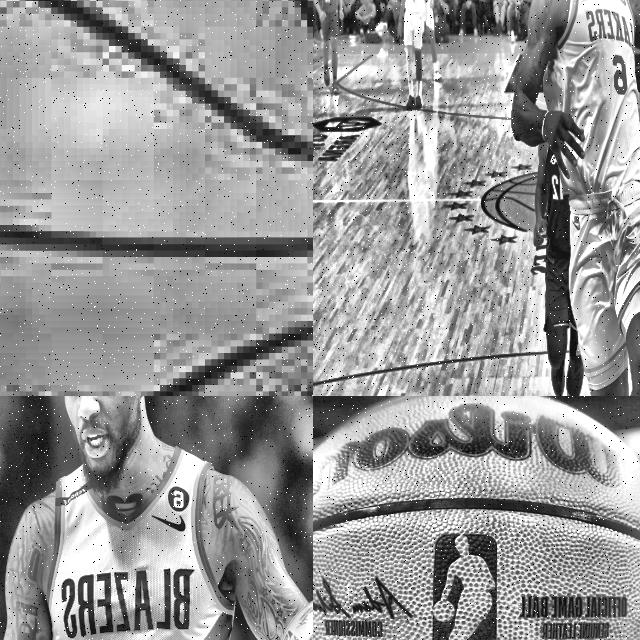Basketball: (0, 0, 313, 396), (313, 396, 640, 640)
